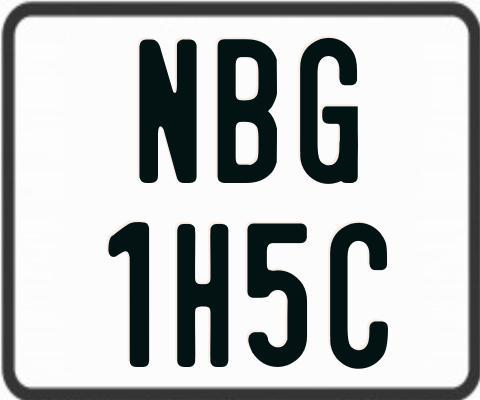1: (105, 220, 152, 369)
5: (244, 220, 304, 369)
B: (216, 36, 275, 184)
C: (328, 220, 388, 369)
G: (299, 36, 359, 186)
H: (175, 222, 229, 367)
N: (139, 37, 201, 182)
